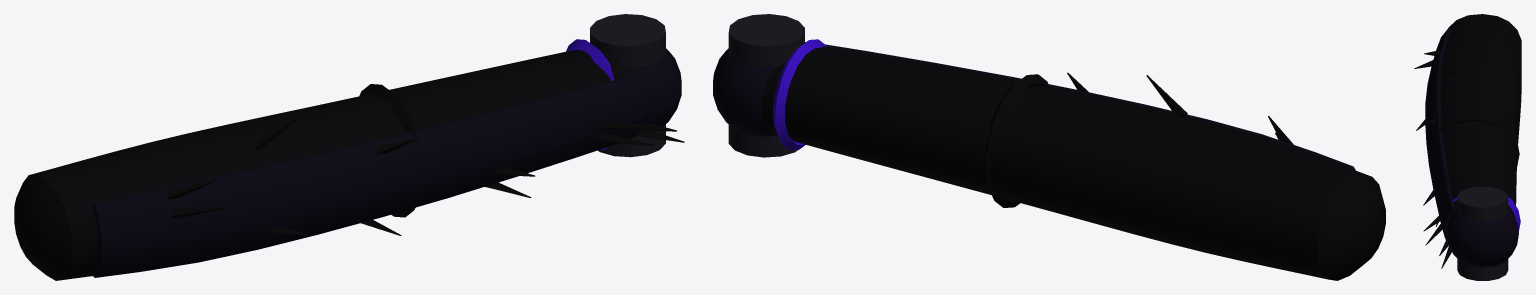
The model's file is femur.obj.
3 renders of one model, left to right at view 1: azimuth 30°, elevation 25°; view 2: azimuth 150°, elevation 25°; view 3: azimuth 270°, elevation 25°, orthographic. The views are drawn at different scales.
Visible parts, largest first — view 1: femur; view 2: femur; view 3: femur.
Part boxes in pixels (x1,y1,x2,y2): femur: [14, 14, 684, 280]; femur: [713, 14, 1385, 280]; femur: [1414, 14, 1521, 280].
Size of the model in its own units: 0.14 by 0.0305 by 0.0301.
